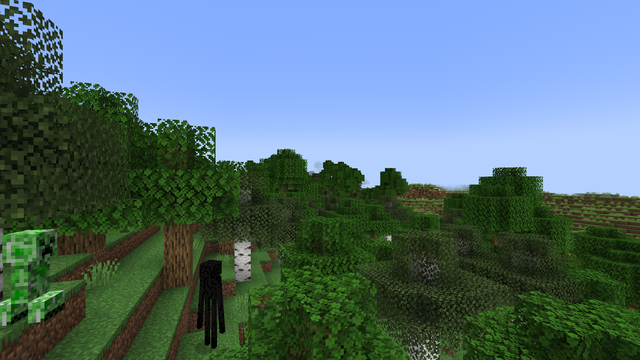creepers: (3, 224, 60, 326)
endermens: (200, 256, 220, 352)
